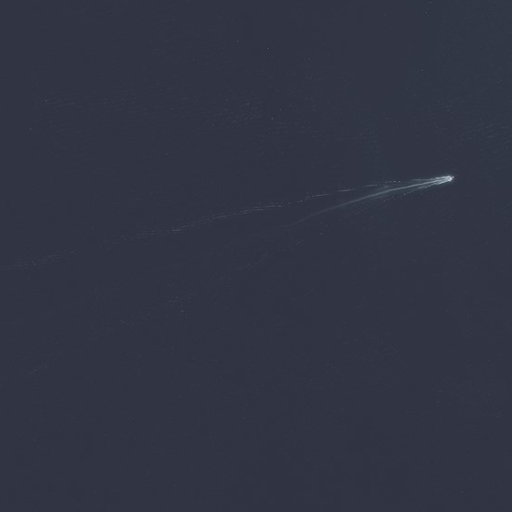ship: (435, 172, 457, 184)
